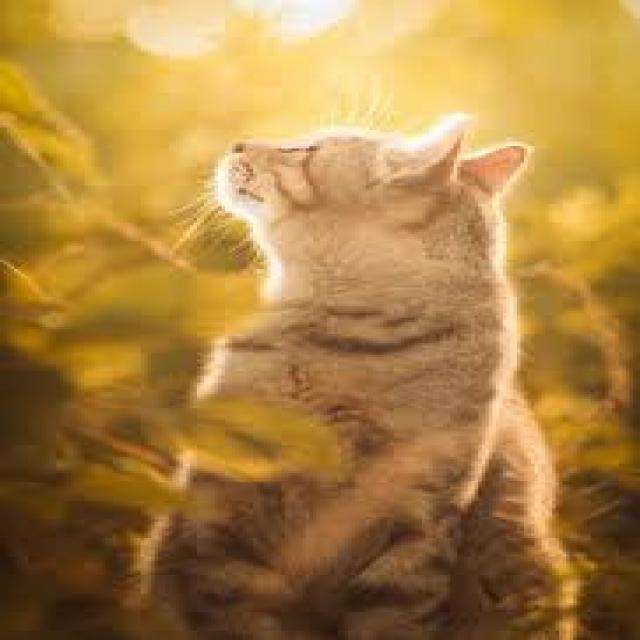Cat: (155, 109, 580, 640)
